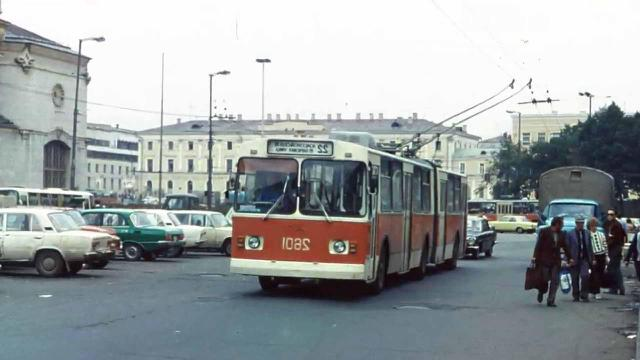bus: (229, 130, 466, 291)
car: (0, 204, 110, 273), (82, 203, 187, 256), (460, 215, 499, 258), (488, 214, 538, 233)
